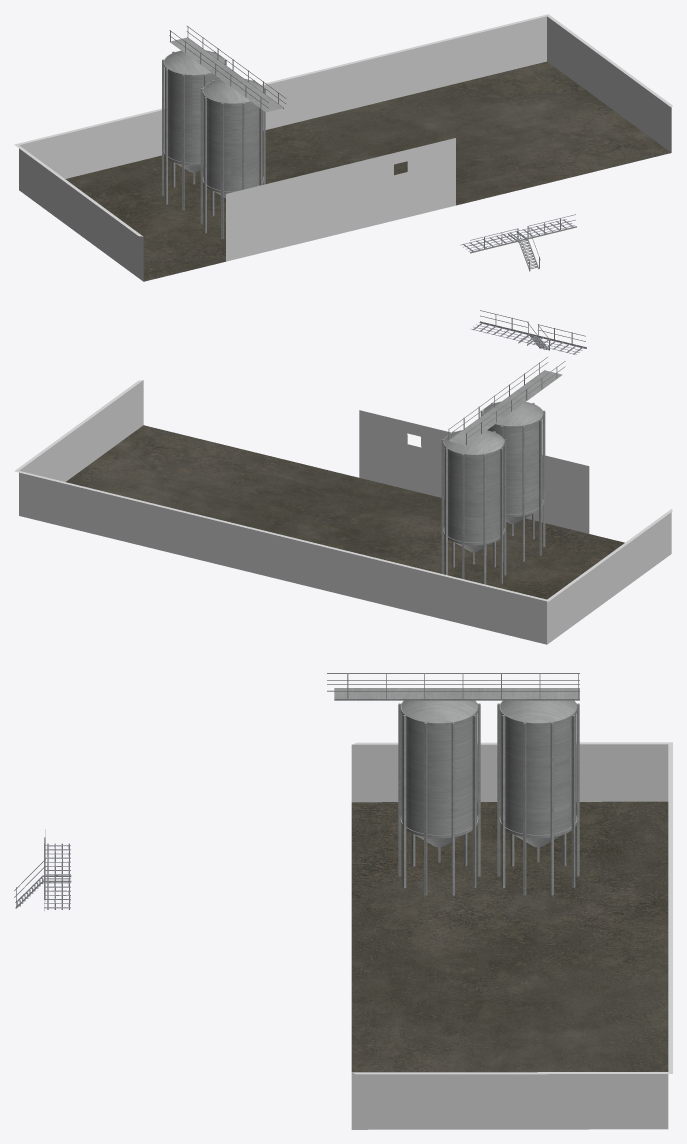
The model's file is Outdoor.fbx.
3 renders of one model, top to bottom at view 1: azimuth 30°, elevation 25°; view 2: azimuth 150°, elevation 25°; view 3: azimuth 270°, elevation 25°, orthographic. The views are drawn at different scales.
Visible parts, largest first — view 1: Outdoor, Silo, Stairs_Base.001, Stairs_Base, Stairs_Fence.001, Stairs_Fence; view 2: Outdoor, Silo, Stairs_Base.001, Stairs_Base, Stairs_Fence.001; view 3: Outdoor, Silo, Stairs_Base.001, Stairs_Fence.001, Stairs_Base.
Boxes of the visible parts, x1,y1,x2,y2 form: Outdoor: [14, 14, 672, 281]; Silo: [162, 50, 265, 239]; Stairs_Base.001: [169, 37, 283, 112]; Stairs_Base: [460, 219, 576, 271]; Stairs_Fence.001: [169, 26, 286, 108]; Stairs_Fence: [470, 214, 575, 271]; Outdoor: [14, 380, 672, 644]; Silo: [441, 401, 545, 584]; Stairs_Base.001: [448, 370, 562, 445]; Stairs_Base: [470, 321, 586, 354]; Stairs_Fence.001: [448, 357, 565, 444]; Outdoor: [351, 742, 672, 1129]; Silo: [398, 700, 579, 895]; Stairs_Base.001: [334, 688, 579, 700]; Stairs_Fence.001: [327, 673, 579, 699]; Stairs_Base: [15, 843, 71, 910].
Bounding box in the file's own units: 4956 × 1400 × 4161.
